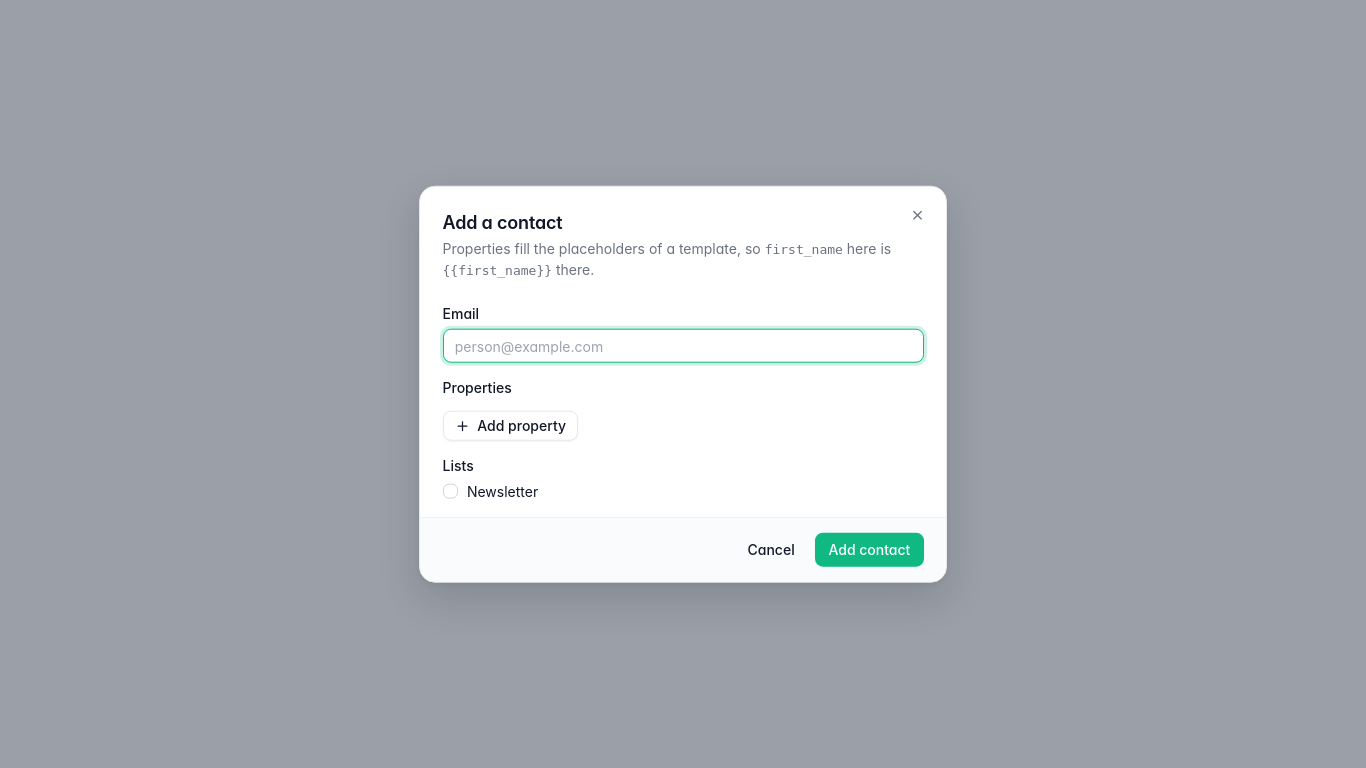
<ContactDialog /> › says what is wrong instead of saving
Type "not-an-email" into the field labelled "Email". click: (683, 346)
box: [442,329,924,363]
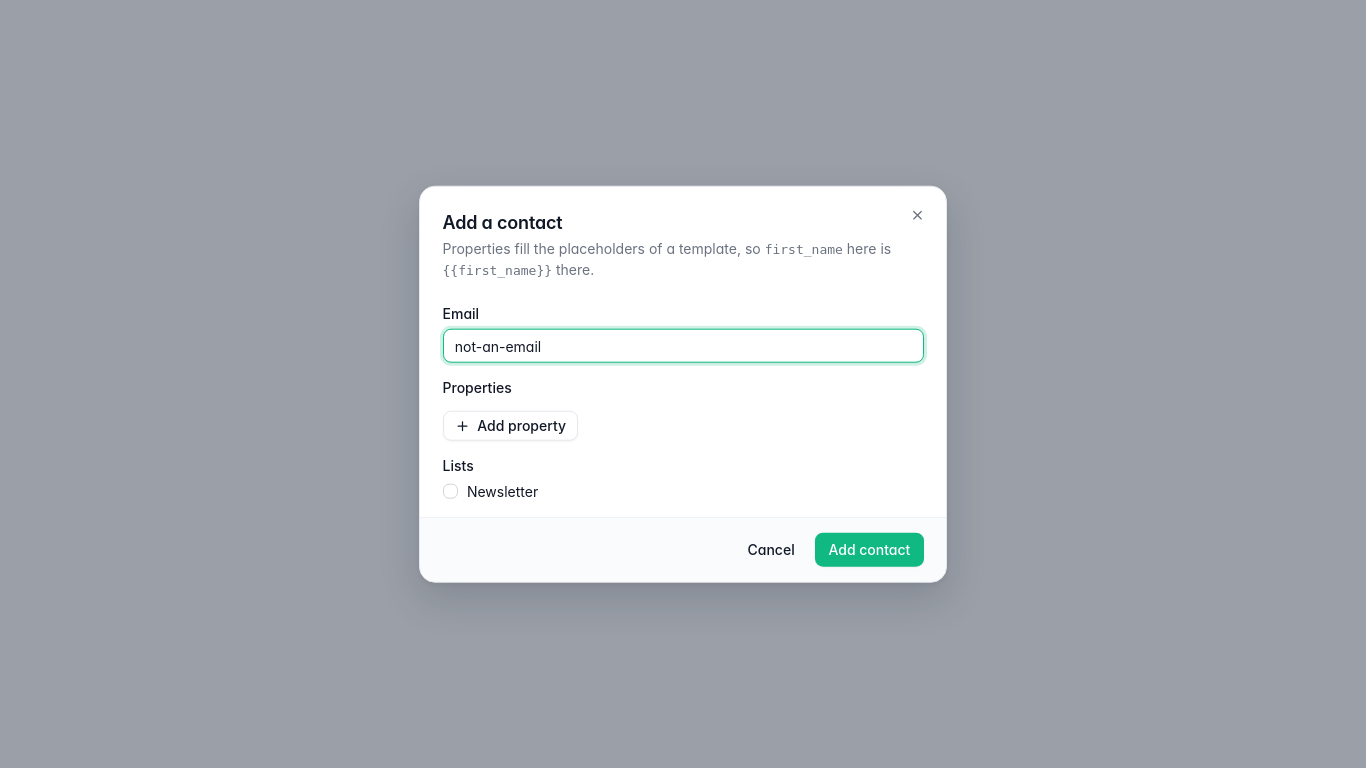
Click the button "Add contact". click: (869, 550)
box: [815,533,924,566]
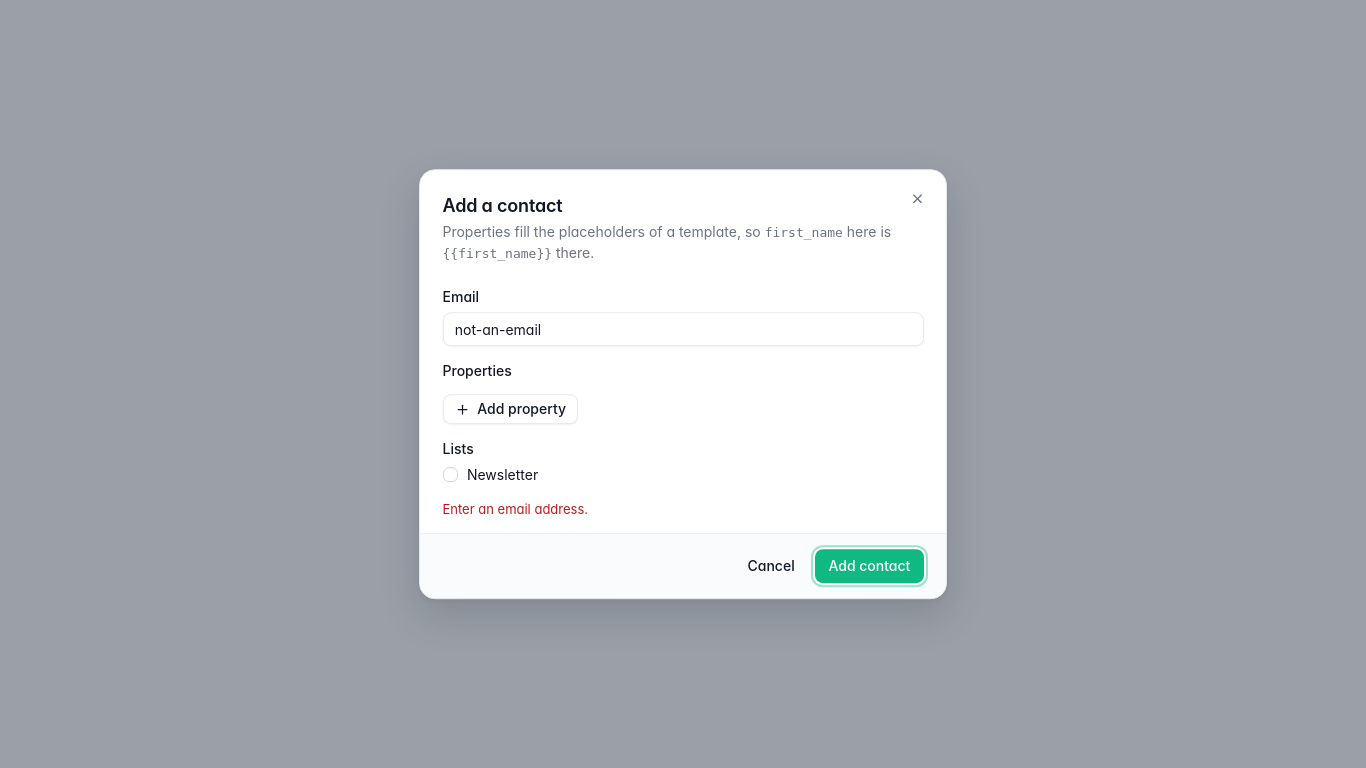
Now the message shows "email address", box [442,501,588,517]
